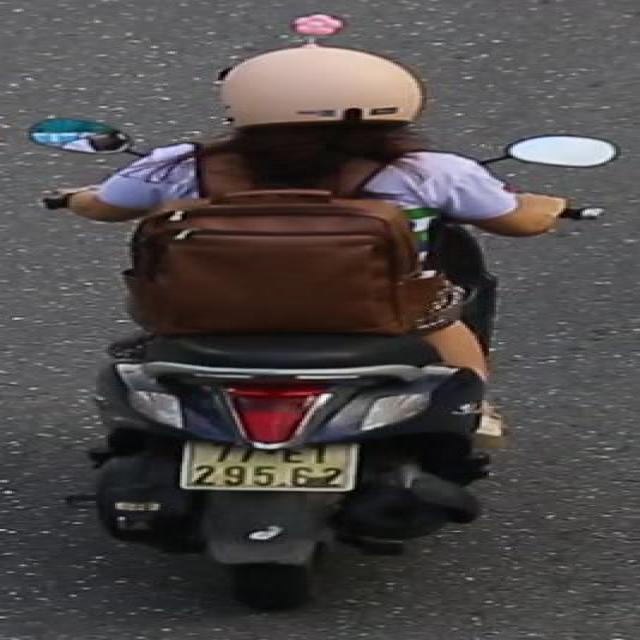LP: (172, 439, 370, 500)
helmet: (203, 41, 435, 156)
